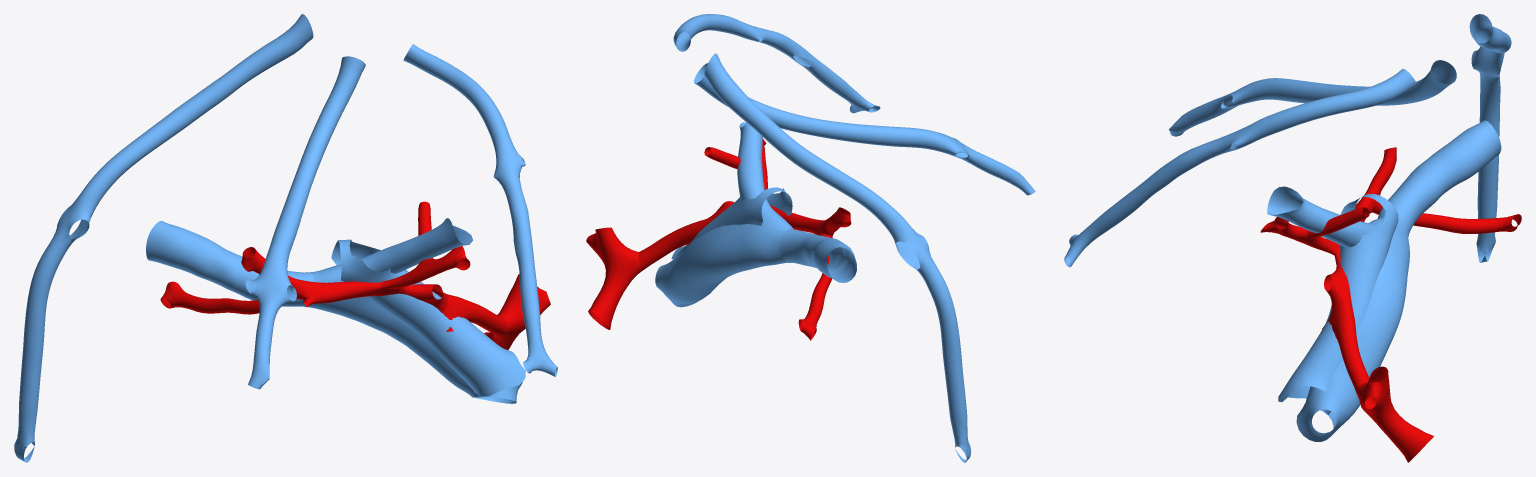
The model's file is VH_M_Blood_Vasculature_Liver.fbx.
3 views of the same model, side by side, from view 1: azimuth 30°, elevation 25°; view 2: azimuth 150°, elevation 25°; view 3: azimuth 270°, elevation 25° (orthographic). The views are drawn at different scales.
Parts seen in each view (by area): view 1: VH_M_right_hepatic_vein, VH_M_hepatic_portal_vein, VH_M_middle_hepatic_vein, VH_M_left_hepatic_vein, VH_M_right_branch_of_portal_vein, VH_M_portal_vein, VH_M_left_branch_of_portal_vein, VH_M_right_hepatic_artery, VH_M_posterior_segmental_right_hepatic_artery, VH_M_celiac_trunk, VH_M_left_hepatic_artery, VH_M_common_hepatic_artery (+1 smaller); view 2: VH_M_right_hepatic_vein, VH_M_portal_vein, VH_M_middle_hepatic_vein, VH_M_left_hepatic_vein, VH_M_celiac_trunk, VH_M_right_branch_of_portal_vein, VH_M_hepatic_portal_vein, VH_M_left_branch_of_portal_vein, VH_M_common_hepatic_artery, VH_M_posterior_segmental_right_hepatic_artery, VH_M_right_hepatic_artery, VH_M_anterior_segmental_right_hepatic_artery; view 3: VH_M_left_hepatic_vein, VH_M_portal_vein, VH_M_hepatic_portal_vein, VH_M_right_branch_of_portal_vein, VH_M_middle_hepatic_vein, VH_M_right_hepatic_vein, VH_M_celiac_trunk, VH_M_left_branch_of_portal_vein, VH_M_common_hepatic_artery, VH_M_posterior_segmental_right_hepatic_artery, VH_M_left_hepatic_artery, VH_M_proper_hepatic_artery (+2 smaller).
Boxes of the visible parts, left/top/right/bottom form: VH_M_right_hepatic_vein: left=14, top=14, right=313, bottom=462; VH_M_hepatic_portal_vein: left=331, top=239, right=525, bottom=396; VH_M_middle_hepatic_vein: left=245, top=56, right=365, bottom=389; VH_M_left_hepatic_vein: left=403, top=44, right=557, bottom=377; VH_M_right_branch_of_portal_vein: left=146, top=221, right=312, bottom=306; VH_M_portal_vein: left=303, top=264, right=522, bottom=403; VH_M_left_branch_of_portal_vein: left=360, top=218, right=473, bottom=273; VH_M_right_hepatic_artery: left=289, top=276, right=380, bottom=306; VH_M_posterior_segmental_right_hepatic_artery: left=160, top=281, right=259, bottom=314; VH_M_celiac_trunk: left=484, top=274, right=550, bottom=349; VH_M_left_hepatic_artery: left=380, top=246, right=470, bottom=288; VH_M_common_hepatic_artery: left=440, top=293, right=507, bottom=336; VH_M_right_hepatic_vein: left=704, top=53, right=971, bottom=462; VH_M_portal_vein: left=655, top=206, right=794, bottom=307; VH_M_middle_hepatic_vein: left=694, top=63, right=1035, bottom=195; VH_M_left_hepatic_vein: left=673, top=14, right=880, bottom=113; VH_M_celiac_trunk: left=586, top=227, right=641, bottom=329; VH_M_right_branch_of_portal_vein: left=779, top=229, right=856, bottom=282; VH_M_hepatic_portal_vein: left=671, top=187, right=792, bottom=259; VH_M_left_branch_of_portal_vein: left=737, top=122, right=770, bottom=207; VH_M_common_hepatic_artery: left=638, top=219, right=706, bottom=271; VH_M_posterior_segmental_right_hepatic_artery: left=798, top=233, right=832, bottom=340; VH_M_right_hepatic_artery: left=770, top=205, right=829, bottom=235; VH_M_anterior_segmental_right_hepatic_artery: left=823, top=207, right=851, bottom=236; VH_M_left_hepatic_vein: left=1064, top=69, right=1416, bottom=267; VH_M_portal_vein: left=1296, top=217, right=1409, bottom=441; VH_M_hepatic_portal_vein: left=1278, top=194, right=1398, bottom=414; VH_M_right_branch_of_portal_vein: left=1377, top=120, right=1501, bottom=236; VH_M_middle_hepatic_vein: left=1169, top=60, right=1456, bottom=136; VH_M_right_hepatic_vein: left=1469, top=14, right=1511, bottom=262; VH_M_celiac_trunk: left=1356, top=366, right=1433, bottom=462; VH_M_left_branch_of_portal_vein: left=1267, top=186, right=1377, bottom=247; VH_M_common_hepatic_artery: left=1322, top=303, right=1369, bottom=397; VH_M_posterior_segmental_right_hepatic_artery: left=1372, top=202, right=1521, bottom=233; VH_M_left_hepatic_artery: left=1260, top=217, right=1339, bottom=255; VH_M_proper_hepatic_artery: left=1324, top=249, right=1352, bottom=309.
Size of the model in its own units: 13.5 by 10.29 by 11.07.
